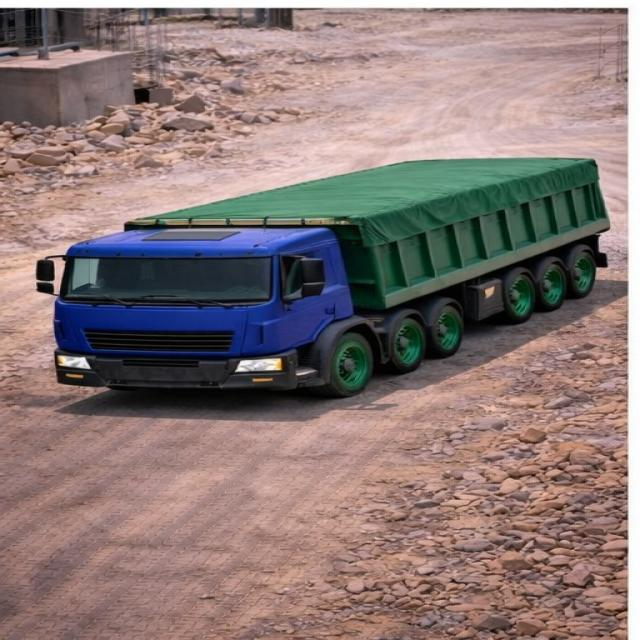Box: (125, 161, 602, 230)
Truck: (34, 146, 627, 392)
